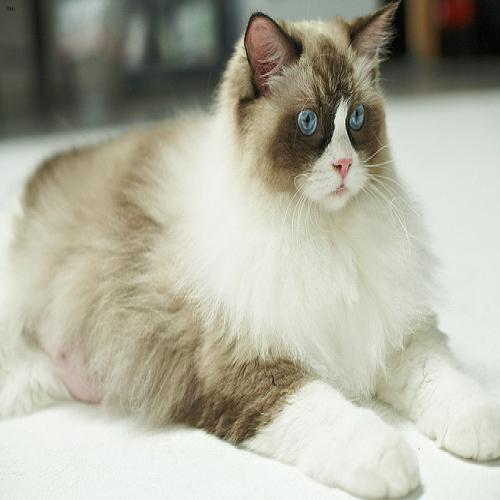ragdoll: (218, 1, 427, 219)
